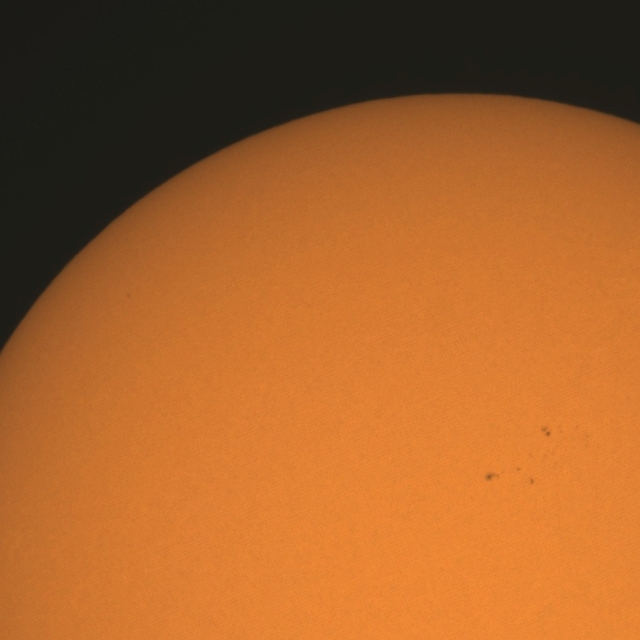sunspot: (484, 471, 501, 482), (540, 425, 552, 438), (528, 476, 536, 487)
